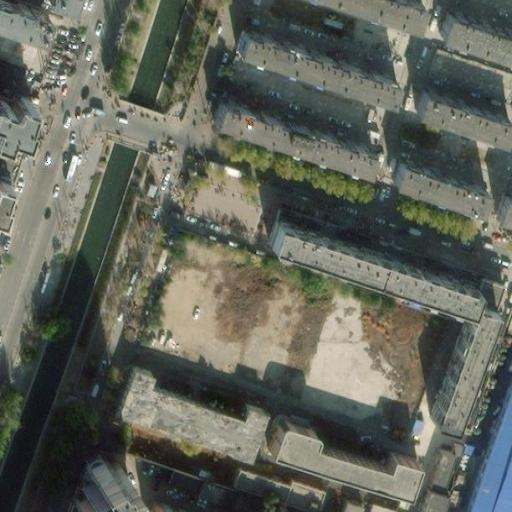building: (271, 204, 499, 307), (264, 221, 472, 307), (109, 359, 257, 448), (228, 18, 390, 96), (205, 90, 367, 167), (264, 414, 414, 491), (430, 295, 489, 424), (166, 467, 289, 512), (418, 40, 507, 96), (407, 82, 500, 135), (385, 152, 477, 204), (223, 466, 315, 511), (432, 4, 512, 53), (74, 458, 133, 512), (424, 440, 458, 494), (0, 0, 43, 36), (67, 463, 91, 512), (0, 93, 30, 132), (0, 189, 20, 239), (336, 497, 396, 512), (415, 488, 447, 512), (496, 194, 512, 229)
